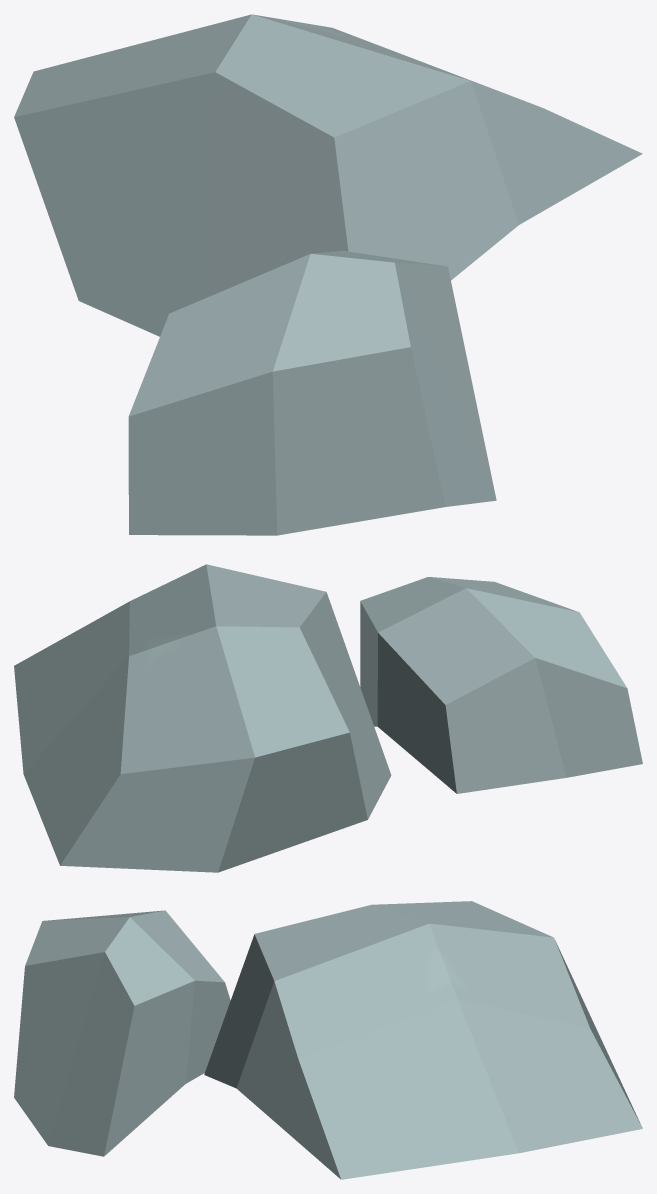
File: Rubble1.fbx
3 views of the same model, one above another, from view 1: azimuth 30°, elevation 25°; view 2: azimuth 150°, elevation 25°; view 3: azimuth 270°, elevation 25° (orthographic). The views are drawn at different scales.
Visible parts, largest first — view 1: Rubble1; view 2: Rubble1; view 3: Rubble1.
Boxes of the visible parts, x1,y1,x2,y2 form: Rubble1: (14, 14, 642, 535); Rubble1: (14, 564, 642, 872); Rubble1: (14, 901, 642, 1179).
Bounding box in the file's own units: 0.6815 × 0.2854 × 0.7209.
